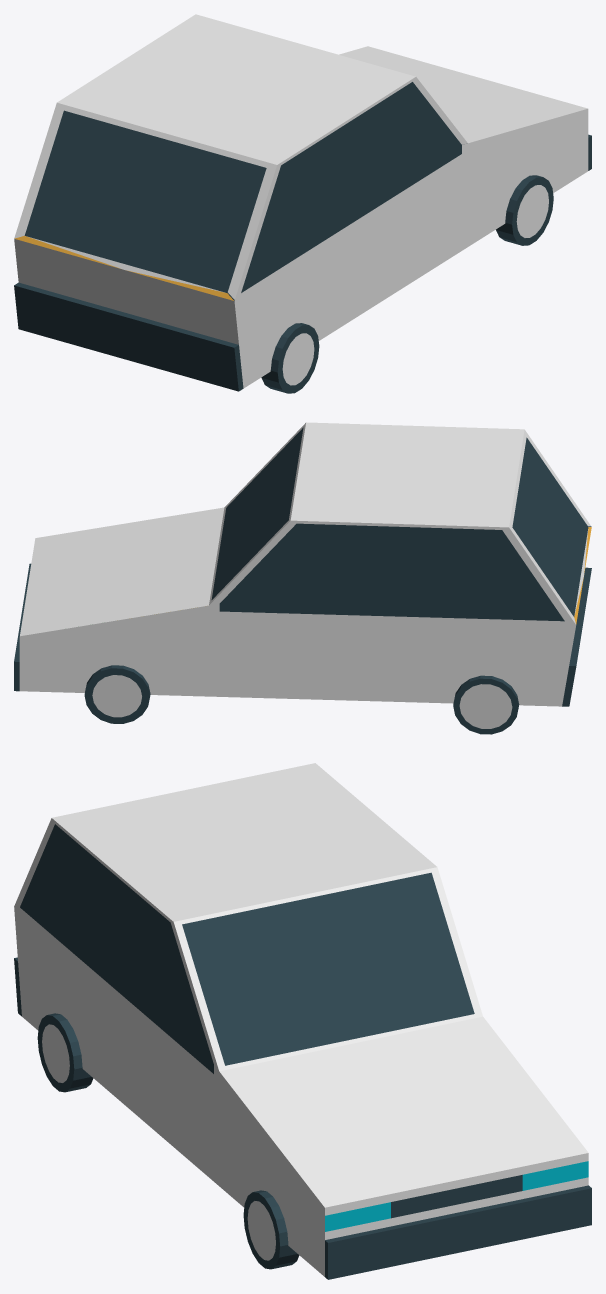
The model's file is car_03_2_3_world_ap_0_lev1.glb.
3 renders of one model, top to bottom at view 1: azimuth 30°, elevation 25°; view 2: azimuth 150°, elevation 25°; view 3: azimuth 270°, elevation 25°, orthographic. The views are drawn at different scales.
Parts seen in each view (by area): view 1: car_03_2_3_world_ap_0_lev1; view 2: car_03_2_3_world_ap_0_lev1; view 3: car_03_2_3_world_ap_0_lev1.
Part boxes in pixels (x1,y1,x2,y2): car_03_2_3_world_ap_0_lev1: [14, 14, 591, 393]; car_03_2_3_world_ap_0_lev1: [14, 422, 591, 734]; car_03_2_3_world_ap_0_lev1: [14, 763, 591, 1279].
Bounding box in the file's own units: 1.62 × 0.6023 × 1.22.
1 material, 1 textured.
